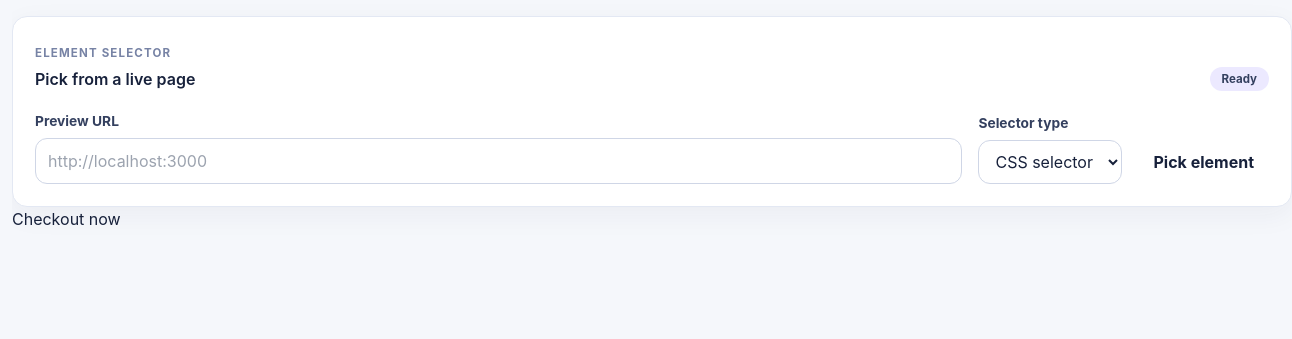
Test: ElementSelectorTool › captures a clicked element as CSS and reports it to the builder
Click the button "Pick element" at coordinates (1204, 162), box [1138, 140, 1269, 184]
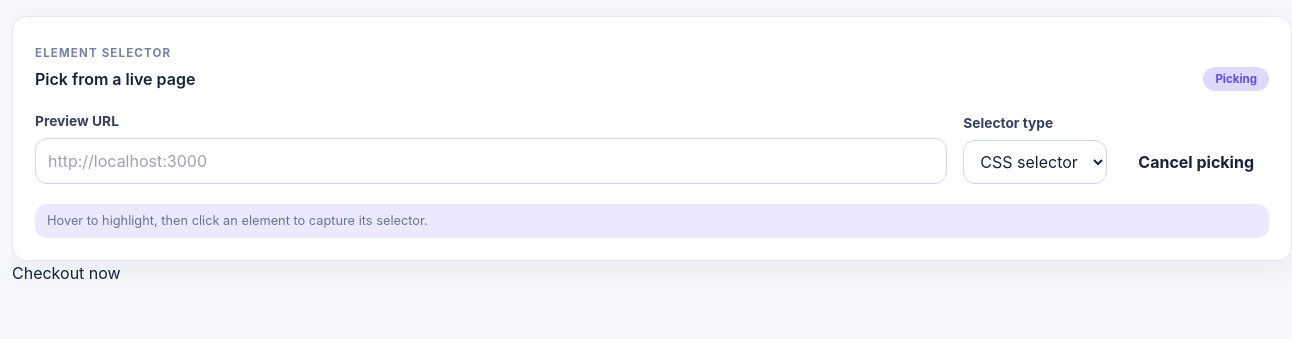
Hover over the button "Checkout now" at coordinates (66, 273), box [12, 261, 121, 285]
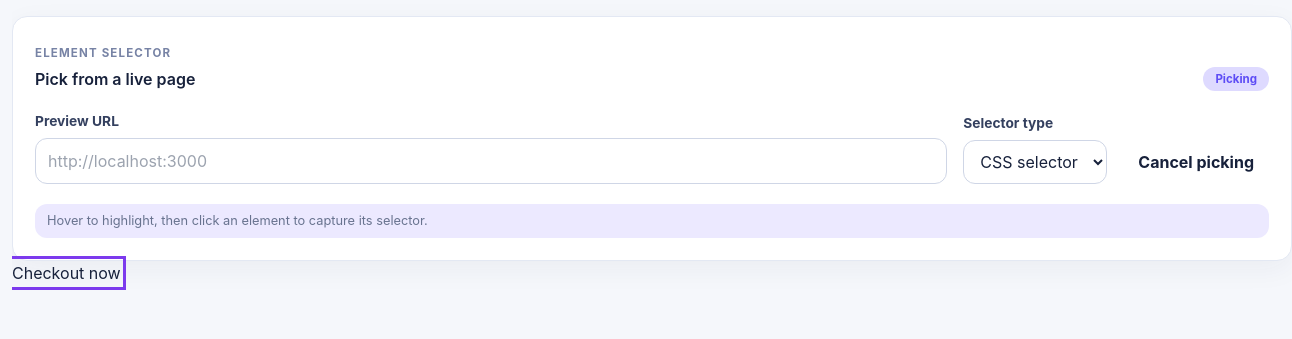
Click the button "Checkout now" at coordinates (66, 273), box [12, 261, 121, 285]
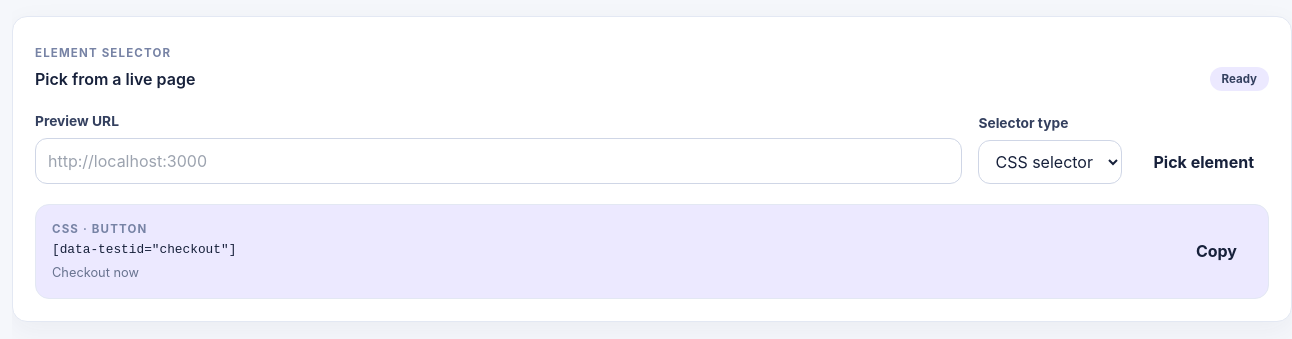
Check: the text "[data-testid=\"checkout\"]" is shown, box [52, 241, 236, 259]
